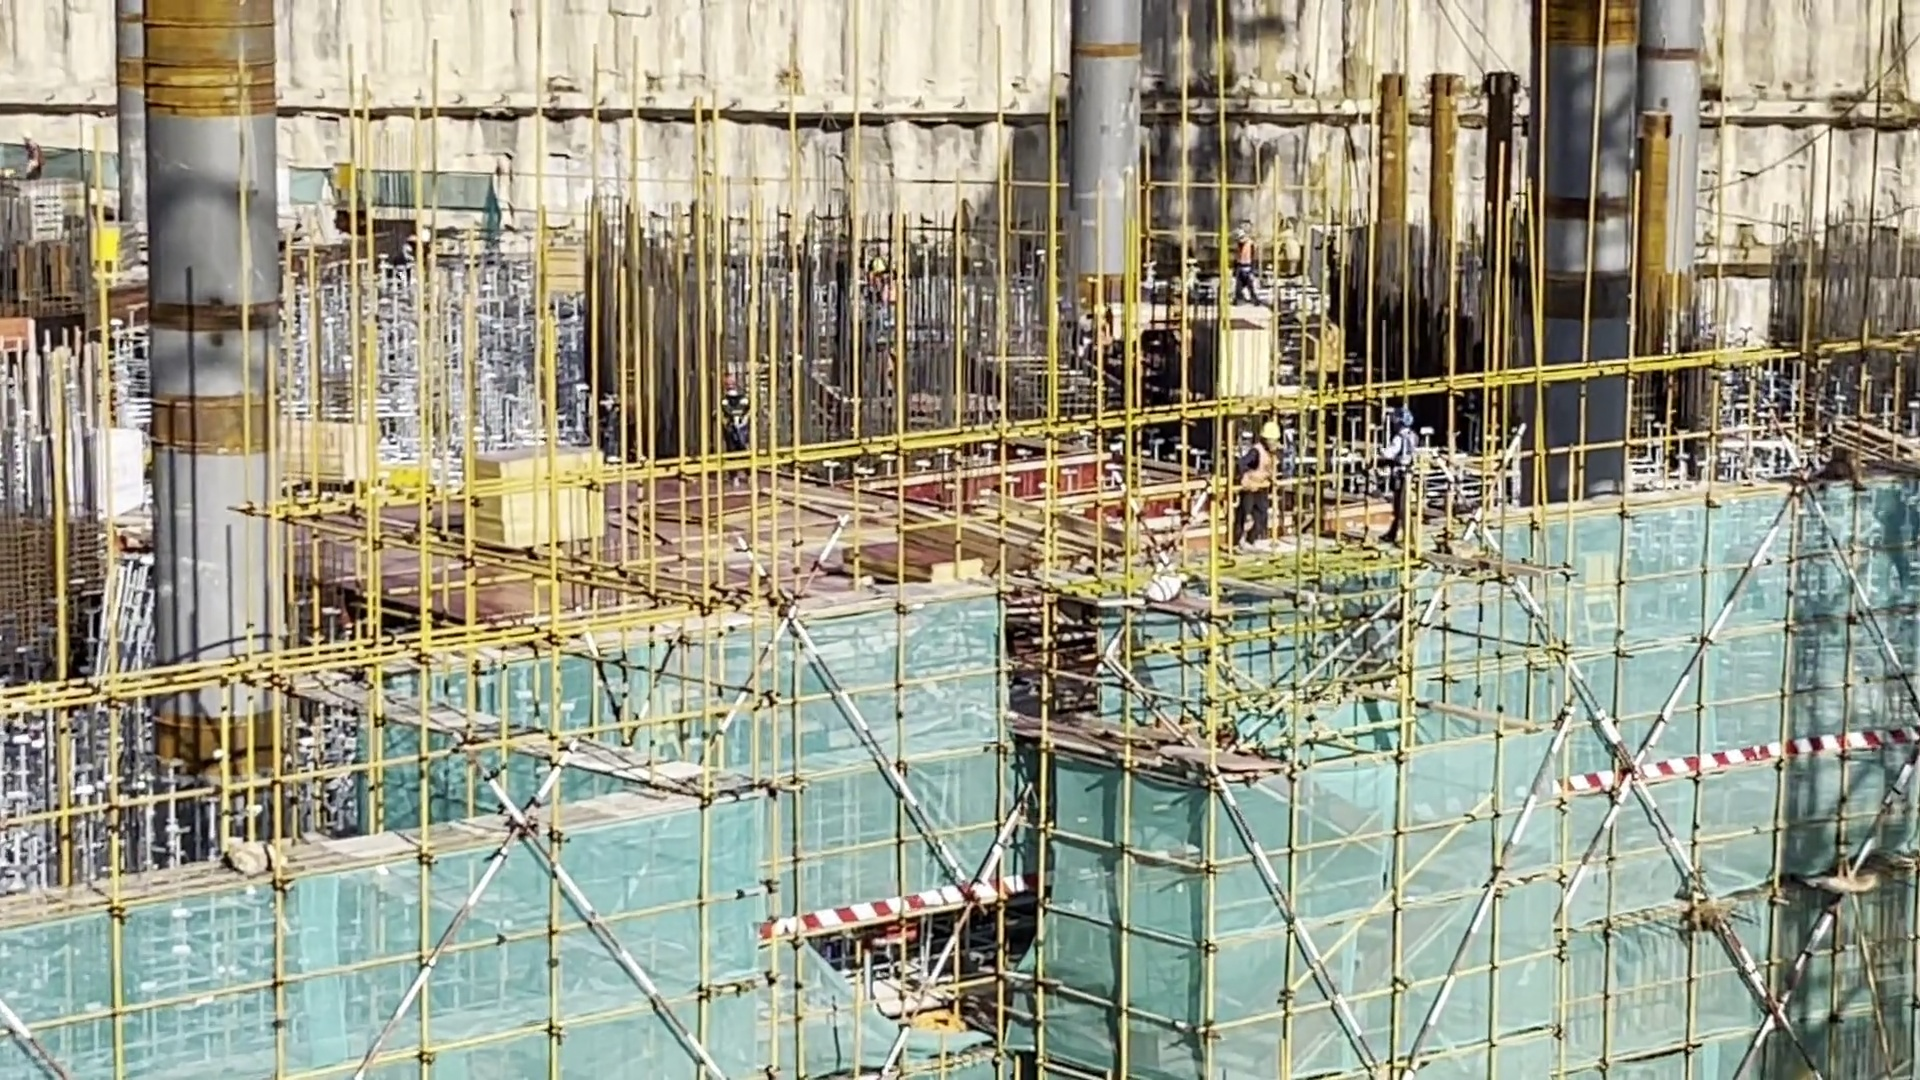helmet: (1389, 411, 1417, 437), (1262, 419, 1280, 440), (416, 223, 433, 243), (576, 382, 591, 405), (1234, 230, 1255, 242), (876, 257, 892, 273), (25, 128, 38, 138), (724, 378, 733, 391)
person: (1381, 403, 1437, 520), (566, 368, 629, 463), (1235, 412, 1282, 539), (715, 373, 753, 473), (867, 254, 899, 341), (400, 223, 446, 276), (1073, 303, 1104, 381), (1235, 225, 1265, 304), (14, 116, 49, 173)
vest: (1247, 439, 1282, 488), (721, 397, 754, 433), (593, 392, 618, 427), (872, 272, 890, 301), (1081, 327, 1098, 357), (27, 141, 42, 163), (402, 239, 417, 261), (1242, 237, 1253, 267)
